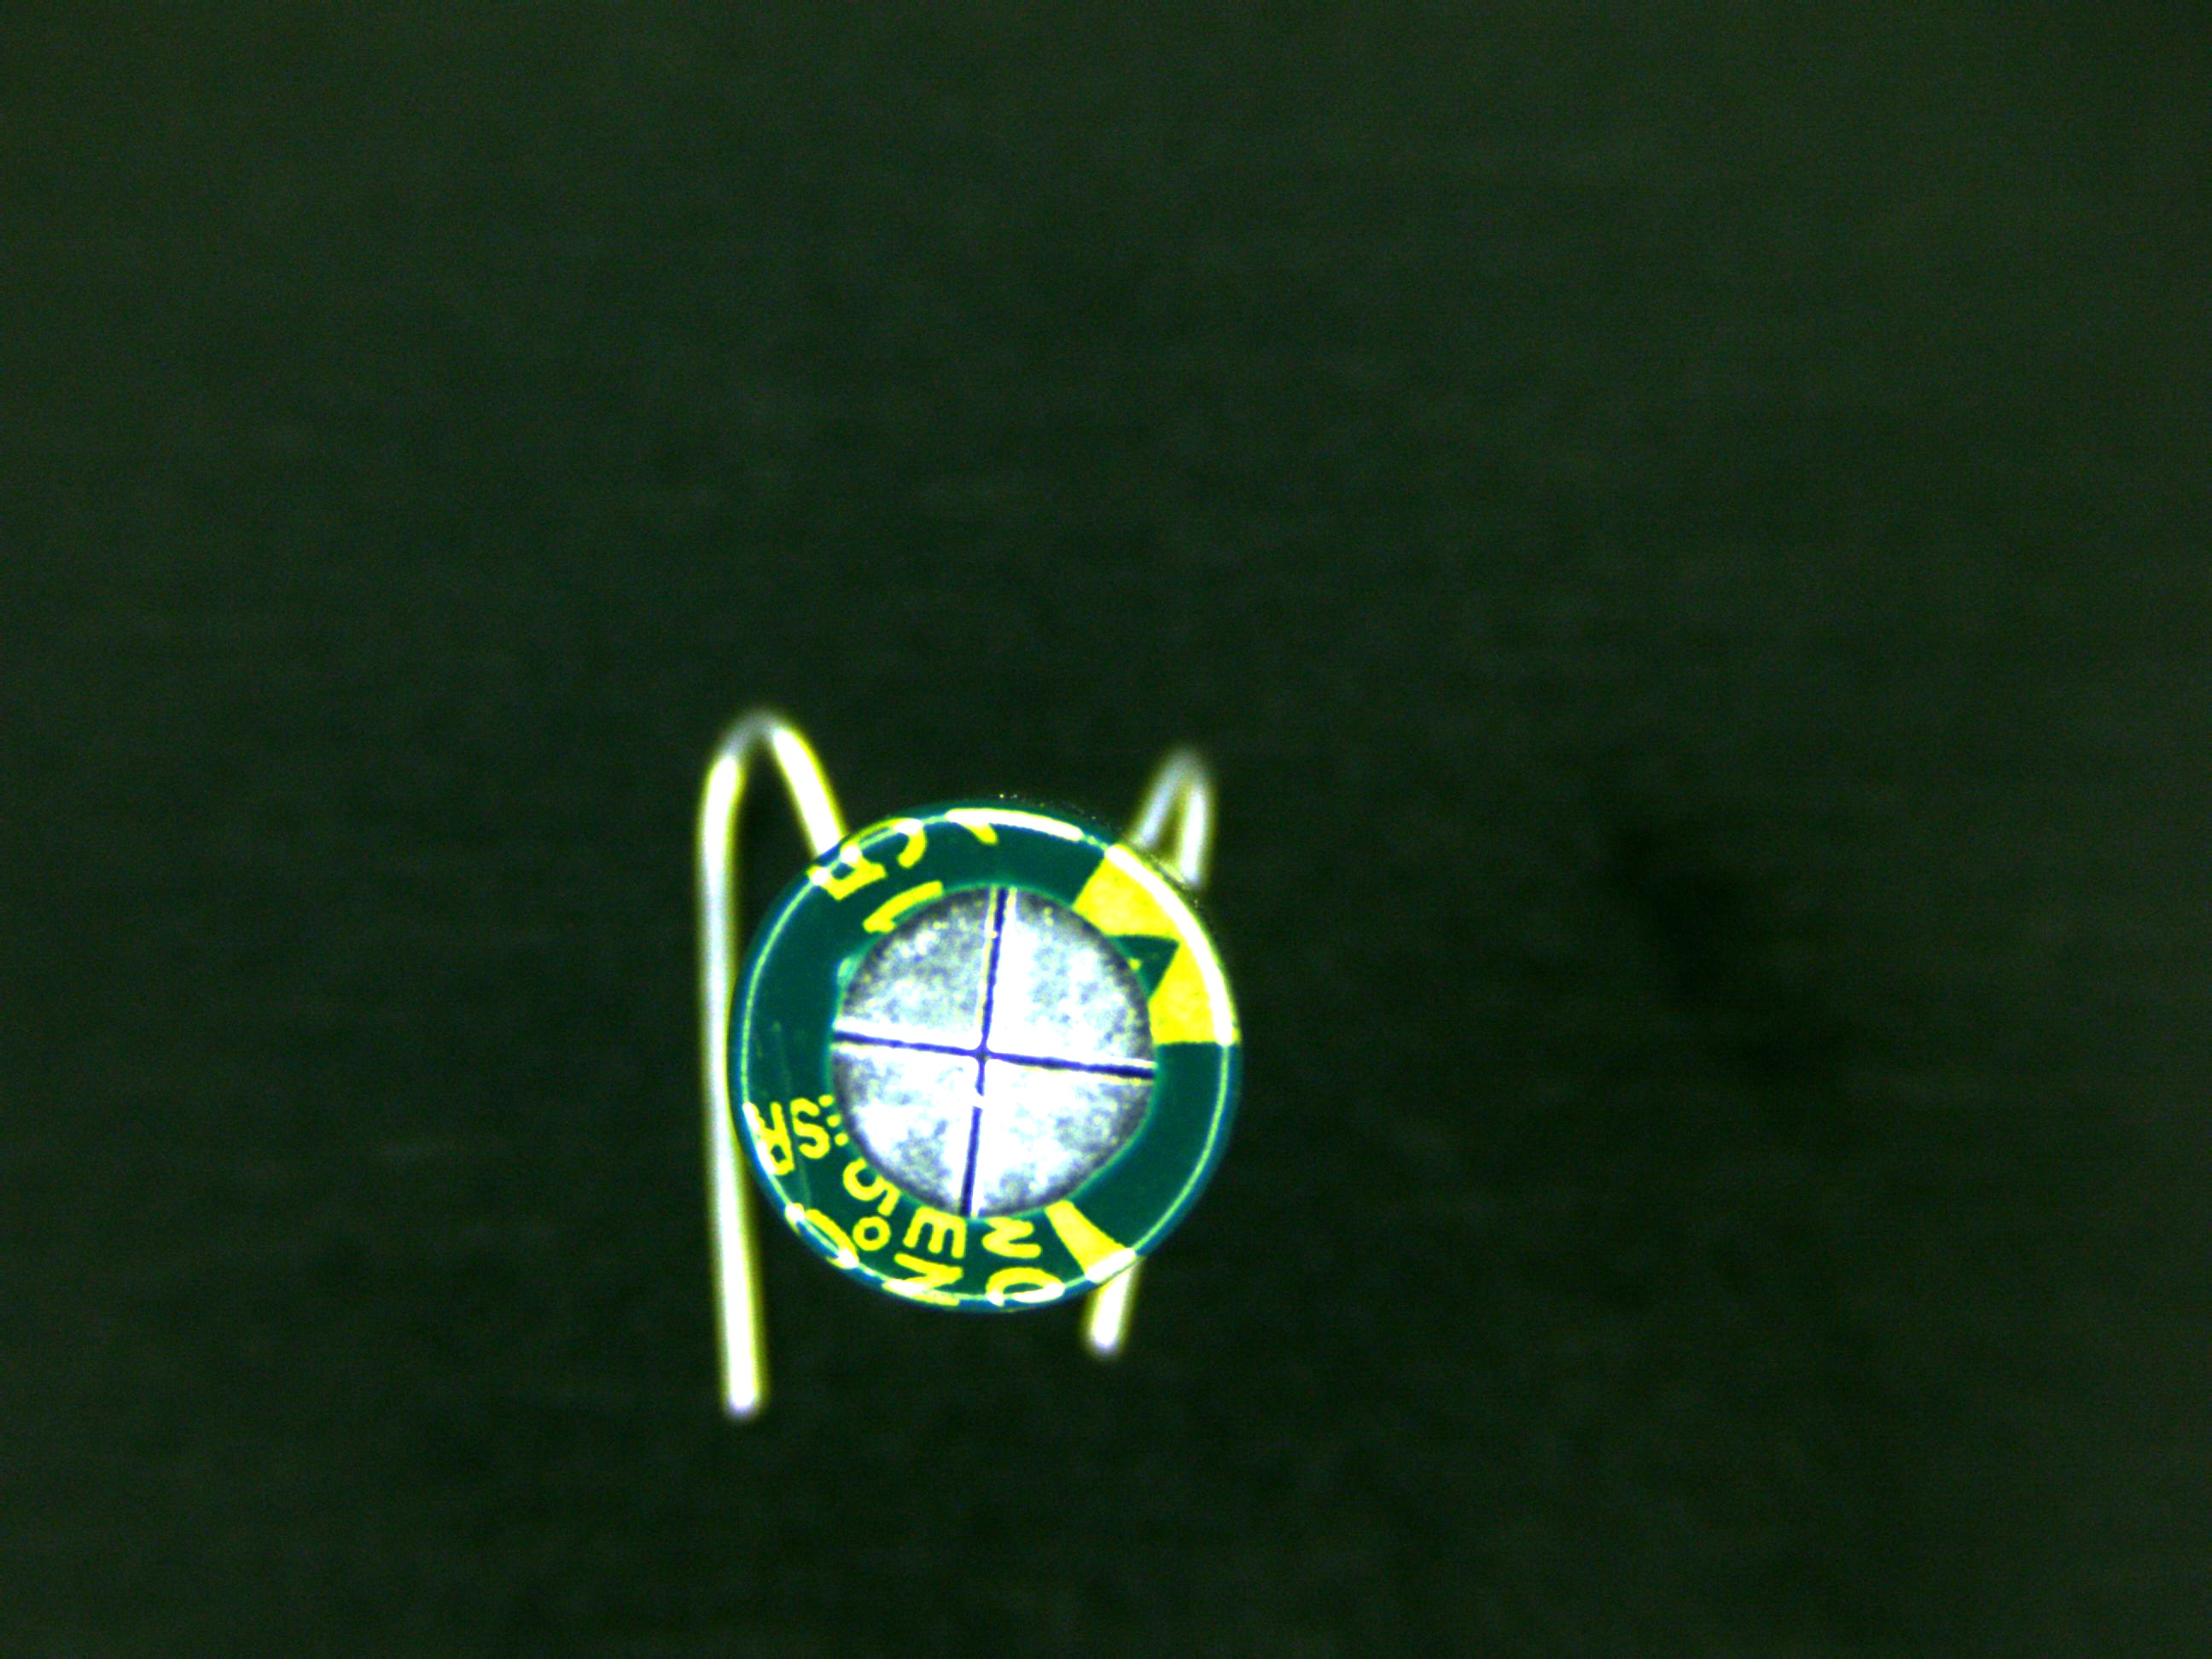c1: (726, 800, 1235, 1316)
